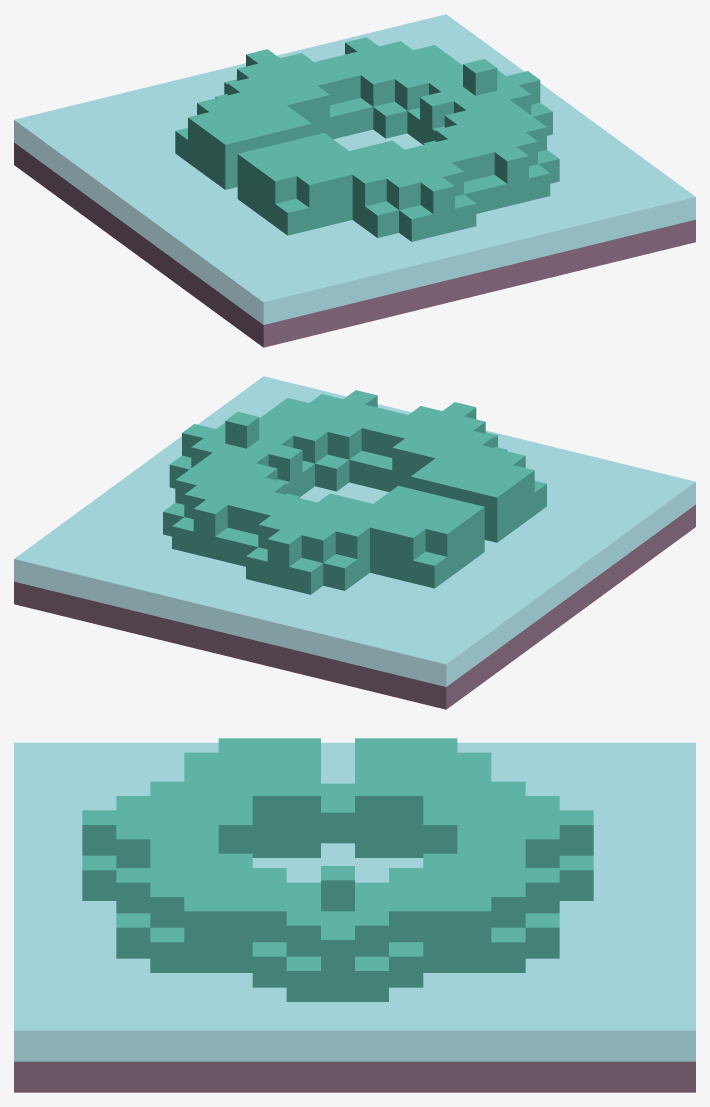
Rendered from alien-biosphere-hummock-marsh-7c71947c__22772.glb.
3 renders of one model, top to bottom at view 1: azimuth 30°, elevation 25°; view 2: azimuth 150°, elevation 25°; view 3: azimuth 270°, elevation 25°, orthographic. The views are drawn at different scales.
Parts seen in each view (by area): view 1: hummock-marsh; view 2: hummock-marsh; view 3: hummock-marsh.
Part boxes in pixels (x1=…): hummock-marsh: x1=14, y1=14, x2=695, y2=347; hummock-marsh: x1=14, y1=376, x2=695, y2=709; hummock-marsh: x1=14, y1=738, x2=695, y2=1092.
Bounding box in the file's own units: 4 × 1 × 4.
